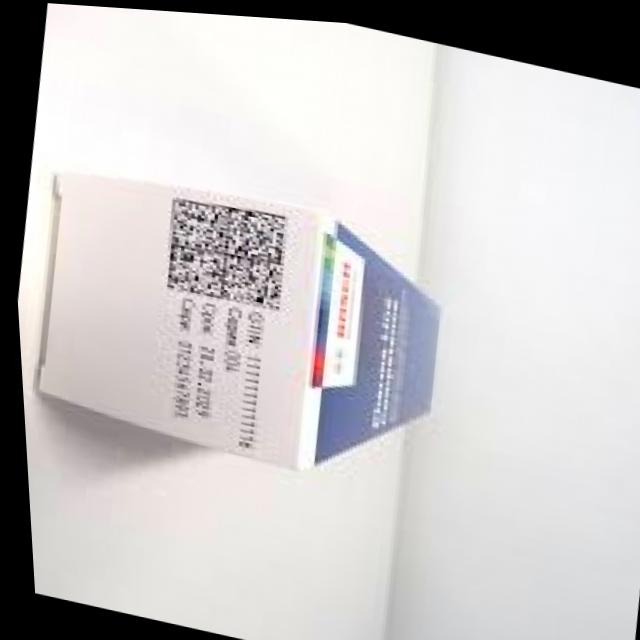datamatrix: (148, 181, 301, 316)
